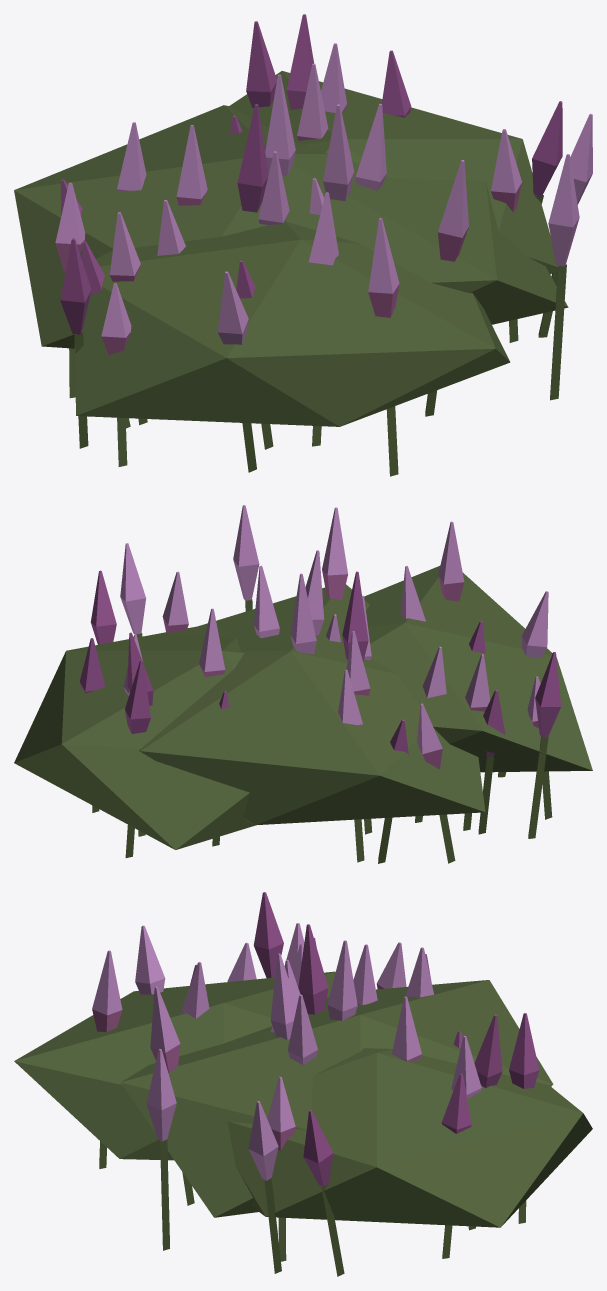
File: ljungtuva_1.glb
The picture shows the model from 3 angles, top to bottom: view 1: azimuth 30°, elevation 25°; view 2: azimuth 150°, elevation 25°; view 3: azimuth 270°, elevation 25°; orthographic projection. The views are drawn at different scales.
Parts seen in each view (by area): view 1: ljungtuva_1; view 2: ljungtuva_1; view 3: ljungtuva_1.
Boxes of the visible parts, left/top/right/bottom form: ljungtuva_1: left=14, top=14, right=592, bottom=476; ljungtuva_1: left=14, top=505, right=592, bottom=863; ljungtuva_1: left=14, top=892, right=592, bottom=1276.
Size of the model in its own units: 1.32 by 0.6638 by 1.45.
